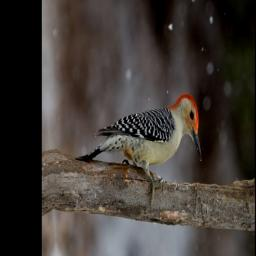Woodpecker: (74, 91, 205, 223)
